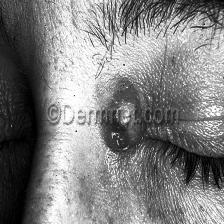Benign Marking or Mole: (101, 80, 144, 149)
